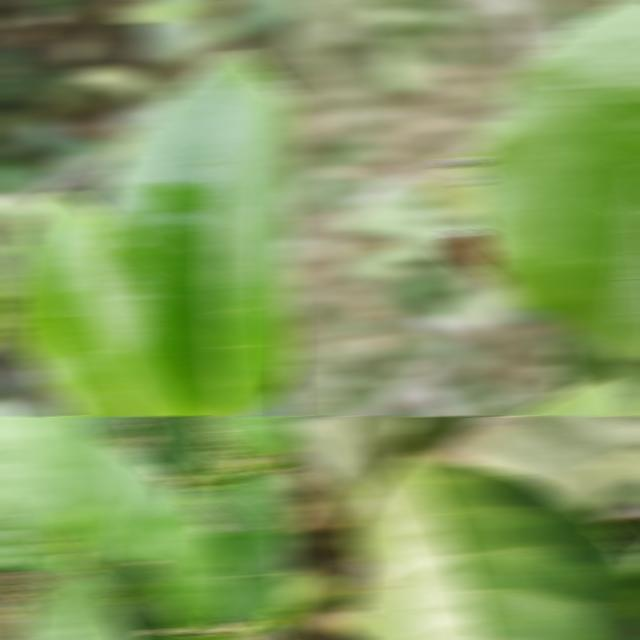Leaf: (96, 50, 295, 416), (471, 0, 640, 360), (347, 457, 640, 640), (6, 190, 196, 416), (431, 416, 640, 521), (148, 481, 237, 634), (76, 430, 180, 560), (281, 416, 420, 506), (0, 416, 98, 537), (204, 529, 295, 620), (15, 574, 134, 640), (0, 504, 79, 577), (219, 473, 295, 538), (112, 590, 175, 640), (281, 571, 341, 621), (143, 416, 192, 476), (169, 416, 213, 476), (115, 0, 220, 24), (232, 0, 295, 24), (0, 201, 24, 256), (81, 416, 136, 437)
